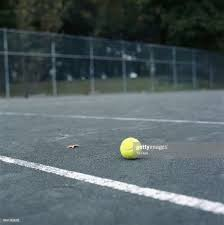tennis_ball: (120, 137, 142, 159)
